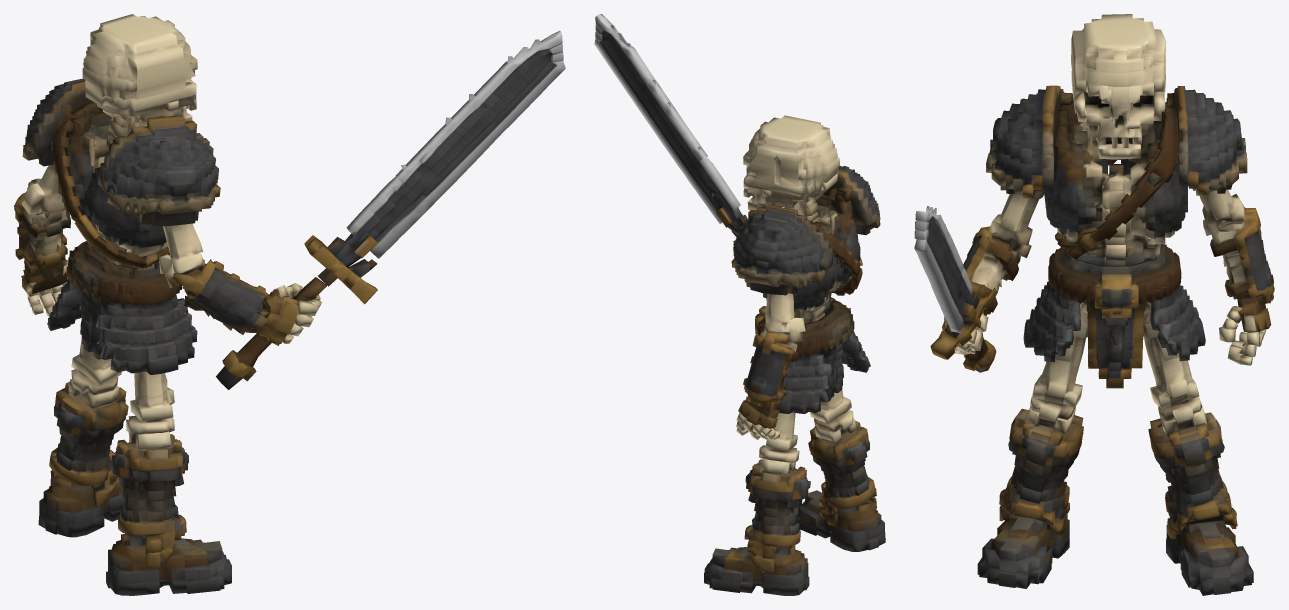
File: esqueleto.fbx
The picture shows the model from 3 angles, left to right: view 1: azimuth 30°, elevation 25°; view 2: azimuth 150°, elevation 25°; view 3: azimuth 270°, elevation 25°; orthographic projection. The views are drawn at different scales.
Visible parts, largest first — view 1: tripo_3fcf191a_25b3_43fb_9bf5_080333dd4cda; view 2: tripo_3fcf191a_25b3_43fb_9bf5_080333dd4cda; view 3: tripo_3fcf191a_25b3_43fb_9bf5_080333dd4cda.
Part boxes in pixels (x1=…): tripo_3fcf191a_25b3_43fb_9bf5_080333dd4cda: x1=14, y1=14, x2=565, y2=595; tripo_3fcf191a_25b3_43fb_9bf5_080333dd4cda: x1=594, y1=14, x2=885, y2=595; tripo_3fcf191a_25b3_43fb_9bf5_080333dd4cda: x1=914, y1=14, x2=1274, y2=595.
Size of the model in its own units: 0.8286 by 0.9995 by 0.6099.
Materials: 1 (1 with a texture image).
